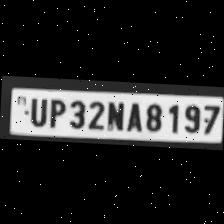1: (162, 100, 182, 132)
2: (84, 96, 106, 130)
3: (64, 94, 86, 128)
7: (199, 100, 221, 134)
8: (140, 98, 164, 132)
9: (178, 100, 202, 132)
A: (123, 97, 143, 130)
N: (104, 97, 126, 131)
P: (44, 94, 66, 128)
U: (25, 94, 48, 126)
